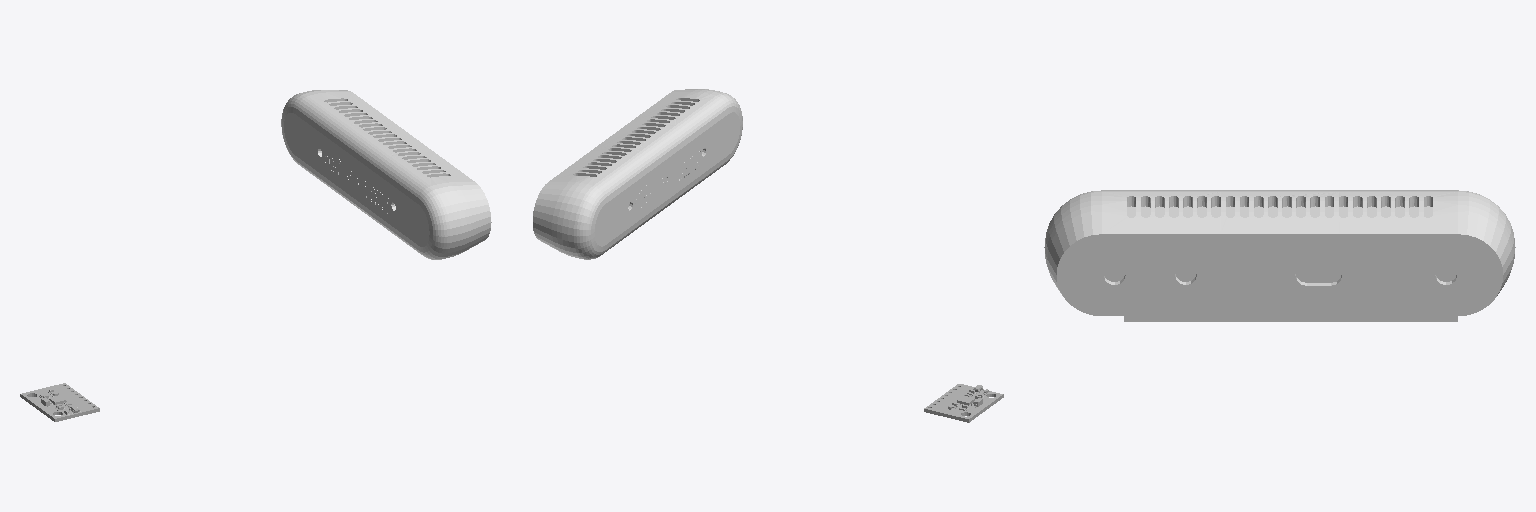
URDF robot description (mecanum test v.6):
<?xml version="1.0" encoding="utf-8"?>
<!-- This URDF was automatically created by SolidWorks to URDF Exporter! Originally created by [author] ([email redacted]) 
     Commit Version: 1.6.0-4-g7f85cfe  Build Version: 1.6.7995.38578
     For more information, please see http://wiki.ros.org/sw_urdf_exporter -->
<robot
  name="mecanum test v.6">
  <link
    name="base_link">
    <inertial>
      <origin
        xyz="0.00868847650405073 -0.00025711510004067 -0.00100383255756043"
        rpy="0 0 0" />
      <mass
        value="0.438269791762358" />
      <inertia
        ixx="0.000281554923820775"
        ixy="-4.4703772400824E-09"
        ixz="-1.27087867827246E-08"
        iyy="0.000902471808953337"
        iyz="-1.44937525962296E-07"
        izz="0.00114409887764575" />
    </inertial>
    <visual>
      <origin
        xyz="0 0 0"
        rpy="0 0 0" />
      <geometry>
        <mesh
          filename="package://mecanum test v.6/meshes/base_link.STL" />
      </geometry>
      <material
        name="">
        <color
          rgba="0.792156862745098 0.819607843137255 0.933333333333333 1" />
      </material>
    </visual>
    <collision>
      <origin
        xyz="0 0 0"
        rpy="0 0 0" />
      <geometry>
        <mesh
          filename="package://mecanum test v.6/meshes/base_link.STL" />
      </geometry>
    </collision>
  </link>
  <link
    name="left_front_link">
    <inertial>
      <origin
        xyz="-2.21087585322577E-08 -3.35658462795319E-08 3.54844728481657E-05"
        rpy="0 0 0" />
      <mass
        value="0.218196679637096" />
      <inertia
        ixx="6.03097474952457E-05"
        ixy="-2.73288653472053E-11"
        ixz="2.40076029904199E-11"
        iyy="6.03112123853112E-05"
        iyz="3.71275922342662E-11"
        izz="6.91135342872255E-05" />
    </inertial>
    <visual>
      <origin
        xyz="0 0 0"
        rpy="0 0 0" />
      <geometry>
        <mesh
          filename="package://mecanum test v.6/meshes/left_front_link.STL" />
      </geometry>
      <material
        name="">
        <color
          rgba="0.792156862745098 0.819607843137255 0.933333333333333 1" />
      </material>
    </visual>
    <collision>
      <origin
        xyz="0 0 0"
        rpy="0 0 0" />
      <geometry>
        <mesh
          filename="package://mecanum test v.6/meshes/left_front_link.STL" />
      </geometry>
    </collision>
  </link>
  <joint
    name="left_front_joint"
    type="continuous">
    <origin
      xyz="0.075 0.093 -0.0165"
      rpy="1.5708 0 0" />
    <parent
      link="base_link" />
    <child
      link="left_front_link" />
    <axis
      xyz="0 0 1" />
    <limit
      effort="0"
      velocity="0" />
  </joint>
  <link
    name="right_front_link">
    <inertial>
      <origin
        xyz="4.89352119936726E-08 -6.41815638482979E-08 -0.000212315698439991"
        rpy="0 0 0" />
      <mass
        value="0.217950760050828" />
      <inertia
        ixx="6.00994880032383E-05"
        ixy="-1.36705719435594E-11"
        ixz="-3.75668007589829E-11"
        iyy="6.01009250622034E-05"
        iyz="-3.81669742151063E-11"
        izz="6.86942109128641E-05" />
    </inertial>
    <visual>
      <origin
        xyz="0 0 0"
        rpy="0 0 0" />
      <geometry>
        <mesh
          filename="package://mecanum test v.6/meshes/right_front_link.STL" />
      </geometry>
      <material
        name="">
        <color
          rgba="0.792156862745098 0.819607843137255 0.933333333333333 1" />
      </material>
    </visual>
    <collision>
      <origin
        xyz="0 0 0"
        rpy="0 0 0" />
      <geometry>
        <mesh
          filename="package://mecanum test v.6/meshes/right_front_link.STL" />
      </geometry>
    </collision>
  </link>
  <joint
    name="right_front_joint"
    type="continuous">
    <origin
      xyz="0.075 -0.093002 -0.0165"
      rpy="1.5708 0 0" />
    <parent
      link="base_link" />
    <child
      link="right_front_link" />
    <axis
      xyz="0 0 -1" />
    <limit
      effort="0"
      velocity="0" />
  </joint>
  <link
    name="left_back_link">
    <inertial>
      <origin
        xyz="1.25928190777835E-07 9.02516253641072E-08 0.000212252459011159"
        rpy="0 0 0" />
      <mass
        value="0.217951478604634" />
      <inertia
        ixx="6.00998665627385E-05"
        ixy="-1.35668841049356E-10"
        ixz="2.20302791319006E-11"
        iyy="6.01010944337809E-05"
        iyz="-7.72858410492777E-11"
        izz="6.86943038179532E-05" />
    </inertial>
    <visual>
      <origin
        xyz="0 0 0"
        rpy="0 0 0" />
      <geometry>
        <mesh
          filename="package://mecanum test v.6/meshes/left_back_link.STL" />
      </geometry>
      <material
        name="">
        <color
          rgba="0.792156862745098 0.819607843137255 0.933333333333333 1" />
      </material>
    </visual>
    <collision>
      <origin
        xyz="0 0 0"
        rpy="0 0 0" />
      <geometry>
        <mesh
          filename="package://mecanum test v.6/meshes/left_back_link.STL" />
      </geometry>
    </collision>
  </link>
  <joint
    name="left_back_joint"
    type="continuous">
    <origin
      xyz="-0.075 0.093002 -0.0165"
      rpy="1.5708 0 0" />
    <parent
      link="base_link" />
    <child
      link="left_back_link" />
    <axis
      xyz="0 0 1" />
    <limit
      effort="0"
      velocity="0" />
  </joint>
  <link
    name="right_back_link">
    <inertial>
      <origin
        xyz="-3.36449804128058E-08 1.08012634739141E-08 -3.55185643660522E-05"
        rpy="0 0 0" />
      <mass
        value="0.218196600372531" />
      <inertia
        ixx="6.03096002691482E-05"
        ixy="2.39952561154555E-12"
        ixz="3.49640928333172E-13"
        iyy="6.0311444302531E-05"
        iyz="1.18459960105545E-10"
        izz="6.91133917321441E-05" />
    </inertial>
    <visual>
      <origin
        xyz="0 0 0"
        rpy="0 0 0" />
      <geometry>
        <mesh
          filename="package://mecanum test v.6/meshes/right_back_link.STL" />
      </geometry>
      <material
        name="">
        <color
          rgba="0.792156862745098 0.819607843137255 0.933333333333333 1" />
      </material>
    </visual>
    <collision>
      <origin
        xyz="0 0 0"
        rpy="0 0 0" />
      <geometry>
        <mesh
          filename="package://mecanum test v.6/meshes/right_back_link.STL" />
      </geometry>
    </collision>
  </link>
  <joint
    name="right_back_joint"
    type="continuous">
    <origin
      xyz="-0.075 -0.093 -0.0165"
      rpy="1.5708 0 0" />
    <parent
      link="base_link" />
    <child
      link="right_back_link" />
    <axis
      xyz="0 0 -1" />
    <limit
      effort="0"
      velocity="0" />
  </joint>
  <link
    name="imu_link">
    <inertial>
      <origin
        xyz="0.000813594970481267 -5.56825045085646E-05 -0.000808281809669862"
        rpy="0 0 0" />
      <mass
        value="0.00100170070350825" />
      <inertia
        ixx="3.03936181819939E-08"
        ixy="1.30603108852878E-11"
        ixz="6.24614435386889E-14"
        iyy="1.69531813597036E-08"
        iyz="-3.36807501649832E-18"
        izz="4.63286907007236E-08" />
    </inertial>
    <visual>
      <origin
        xyz="0 0 0"
        rpy="0 0 0" />
      <geometry>
        <mesh
          filename="package://mecanum test v.6/meshes/imu_link.STL" />
      </geometry>
      <material
        name="">
        <color
          rgba="0.752941176470588 0.752941176470588 0.752941176470588 1" />
      </material>
    </visual>
    <collision>
      <origin
        xyz="0 0 0"
        rpy="0 0 0" />
      <geometry>
        <mesh
          filename="package://mecanum test v.6/meshes/imu_link.STL" />
      </geometry>
    </collision>
  </link>
  <joint
    name="imu_joint"
    type="fixed">
    <origin
      xyz="0.0001159 0 0.004143"
      rpy="0 0 0" />
    <parent
      link="base_link" />
    <child
      link="imu_link" />
    <axis
      xyz="0 0 0" />
  </joint>
  <link
    name="camera_link">
    <inertial>
      <origin
        xyz="-0.0103709928154782 5.6436625219944E-05 -0.000295341784202714"
        rpy="0 0 0" />
      <mass
        value="0.0417075290818711" />
      <inertia
        ixx="3.21186727343634E-05"
        ixy="-6.22845031418061E-09"
        ixz="3.41499561748871E-08"
        iyy="2.82331454727002E-06"
        iyz="1.44764112249294E-08"
        izz="3.16083294429481E-05" />
    </inertial>
    <visual>
      <origin
        xyz="0 0 0"
        rpy="0 0 0" />
      <geometry>
        <mesh
          filename="package://mecanum test v.6/meshes/camera_link.STL" />
      </geometry>
      <material
        name="">
        <color
          rgba="0.898039215686275 0.898039215686275 0.898039215686275 1" />
      </material>
    </visual>
    <collision>
      <origin
        xyz="0 0 0"
        rpy="0 0 0" />
      <geometry>
        <mesh
          filename="package://mecanum test v.6/meshes/camera_link.STL" />
      </geometry>
    </collision>
  </link>
  <joint
    name="camera_joint"
    type="fixed">
    <origin
      xyz="0.125 -0.00024252 0.054467"
      rpy="0 0 0" />
    <parent
      link="base_link" />
    <child
      link="camera_link" />
    <axis
      xyz="0 0 0" />
  </joint>
  <link
    name="lidar_link">
    <inertial>
      <origin
        xyz="-0.00656672707374609 0.000969221914658544 -0.00888016805798139"
        rpy="0 0 0" />
      <mass
        value="0.142994095653188" />
      <inertia
        ixx="4.62767161181518E-05"
        ixy="-8.53572518984293E-07"
        ixz="-3.62184026396734E-06"
        iyy="7.34746440088868E-05"
        iyz="2.04304178805859E-07"
        izz="0.000107960183716792" />
    </inertial>
    <visual>
      <origin
        xyz="0 0 0"
        rpy="0 0 0" />
      <geometry>
        <mesh
          filename="package://mecanum test v.6/meshes/lidar_link.STL" />
      </geometry>
      <material
        name="">
        <color
          rgba="0.101960784313725 0.101960784313725 0.101960784313725 1" />
      </material>
    </visual>
    <collision>
      <origin
        xyz="0 0 0"
        rpy="0 0 0" />
      <geometry>
        <mesh
          filename="package://mecanum test v.6/meshes/lidar_link.STL" />
      </geometry>
    </collision>
  </link>
  <joint
    name="lidar_joint"
    type="continuous">
    <origin
      xyz="0.037442 -0.0014643 0.079918"
      rpy="0 0 0" />
    <parent
      link="base_link" />
    <child
      link="lidar_link" />
    <axis
      xyz="0 0 1" />
  </joint>
</robot>

--- Facts derived from the render (not from the file) ---
3 views of the same robot in one strip: view 1: azimuth 30°, elevation 25°; view 2: azimuth 150°, elevation 25°; view 3: azimuth 270°, elevation 25° (orthographic).
Model mecanum test v.6 with 8 links and 7 joints (5 continuous, 2 fixed), rooted at base_link, posed every joint at zero.
Links seen in each view (by area): view 1: camera_link, imu_link; view 2: camera_link, imu_link; view 3: camera_link.
Boxes of the visible links, x1=… form: camera_link: x1=281, y1=90, x2=491, y2=259; imu_link: x1=20, y1=383, x2=99, y2=421; camera_link: x1=533, y1=89, x2=742, y2=259; imu_link: x1=924, y1=384, x2=1003, y2=422; camera_link: x1=1044, y1=190, x2=1515, y2=321.
Size in the robot's own frame: 0.1329 by 0.0994 by 0.0635 metres.
2 mesh visuals loaded from 8 distinct referenced files (2 binary STL); not drawn: 6 (reference not matched to a file when rendering).